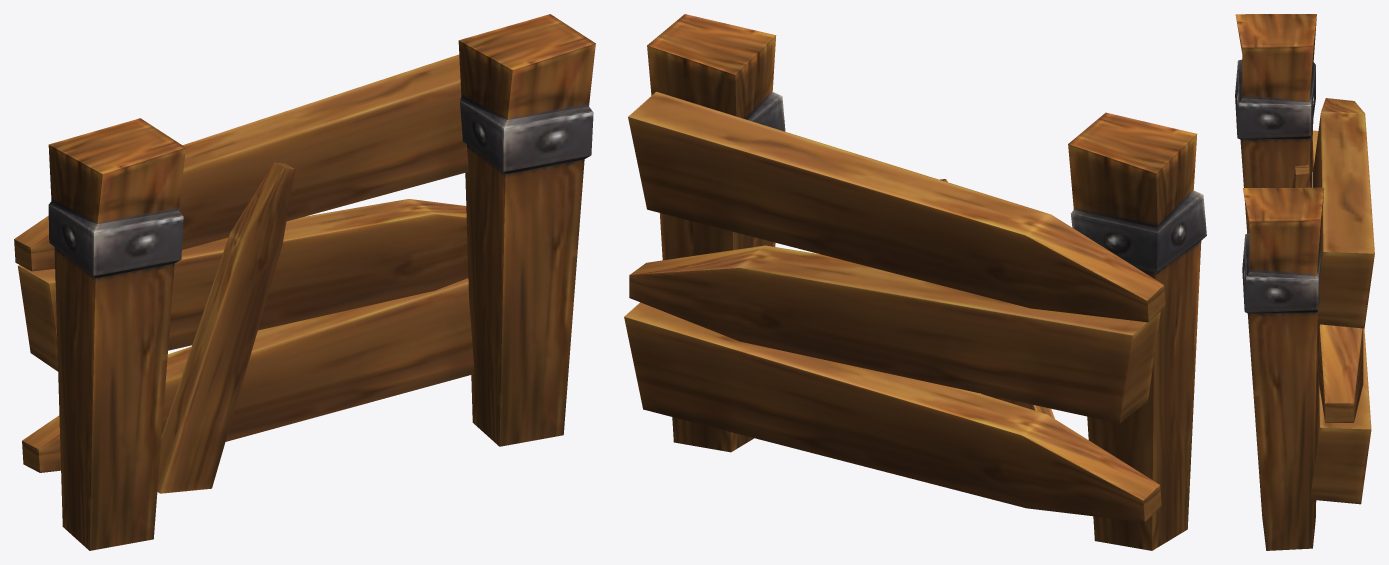
File: Zhalan04.FBX
3 renders of one model, left to right at view 1: azimuth 30°, elevation 25°; view 2: azimuth 150°, elevation 25°; view 3: azimuth 270°, elevation 25°, orthographic. The views are drawn at different scales.
Visible parts, largest first — view 1: Box30; view 2: Box30; view 3: Box30.
Part boxes in pixels (x1,y1,x2,y2): Box30: [14, 14, 595, 550]; Box30: [624, 14, 1206, 550]; Box30: [1235, 14, 1374, 550].
Size of the model in its own units: 8.38 by 6.05 by 2.27.
